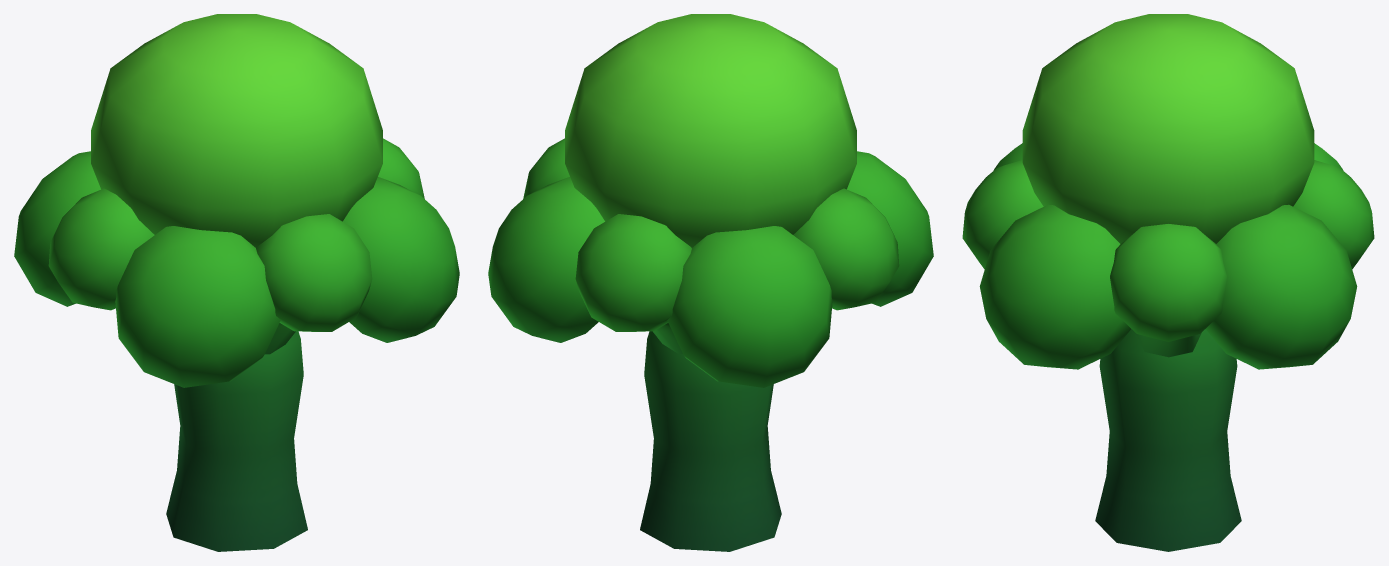
File: Broccoli_Piece.glb
3 renders of one model, left to right at view 1: azimuth 30°, elevation 25°; view 2: azimuth 150°, elevation 25°; view 3: azimuth 270°, elevation 25°, orthographic.
Parts seen in each view (by area): view 1: Broccoli_Piece; view 2: Broccoli_Piece; view 3: Broccoli_Piece.
Boxes of the visible parts, bbox=[...] form: Broccoli_Piece: bbox=[14, 14, 459, 551]; Broccoli_Piece: bbox=[488, 14, 933, 551]; Broccoli_Piece: bbox=[962, 14, 1374, 551].
Bounding box in the file's own units: 0.231 × 0.3094 × 0.231.
1 material, 1 textured.
